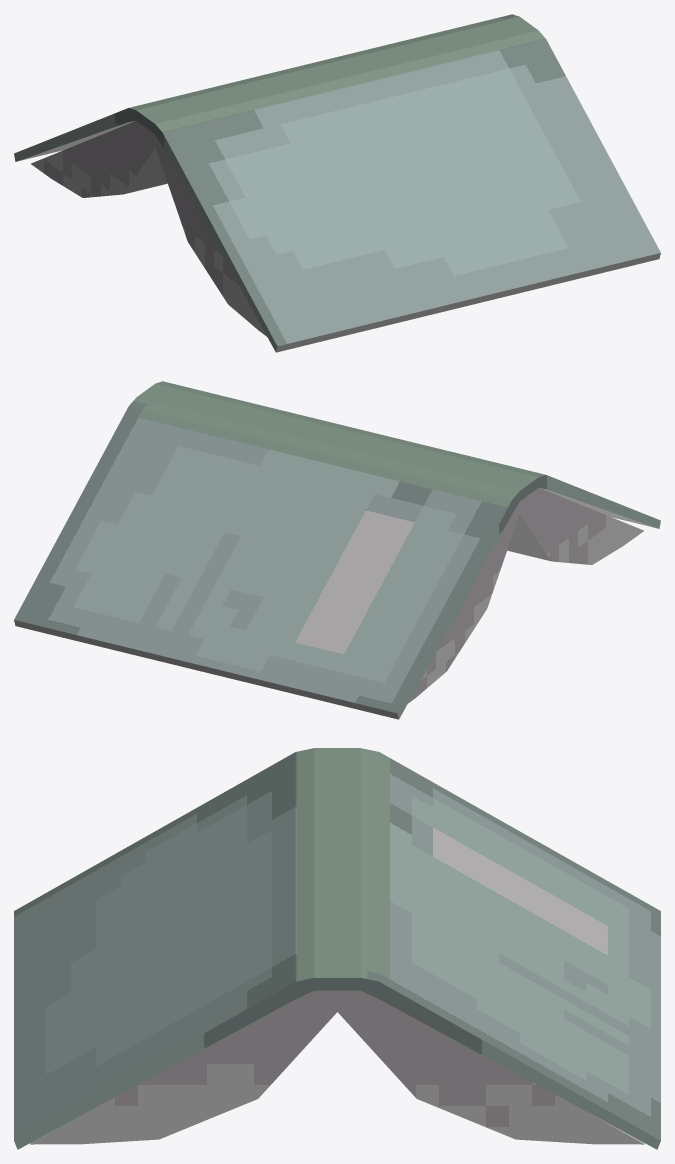
File: book1.fbx
3 views of the same model, one above another, from view 1: azimuth 30°, elevation 25°; view 2: azimuth 150°, elevation 25°; view 3: azimuth 270°, elevation 25° (orthographic). The views are drawn at different scales.
Parts seen in each view (by area): view 1: Cube; view 2: Cube; view 3: Cube.
Boxes of the visible parts, <box> form: Cube: <box>14,14,660,352</box>; Cube: <box>14,381,660,719</box>; Cube: <box>14,748,660,1149</box>.
Bounding box in the file's own units: 180 × 62.96 × 214.
Materials: 1 (1 with a texture image).
